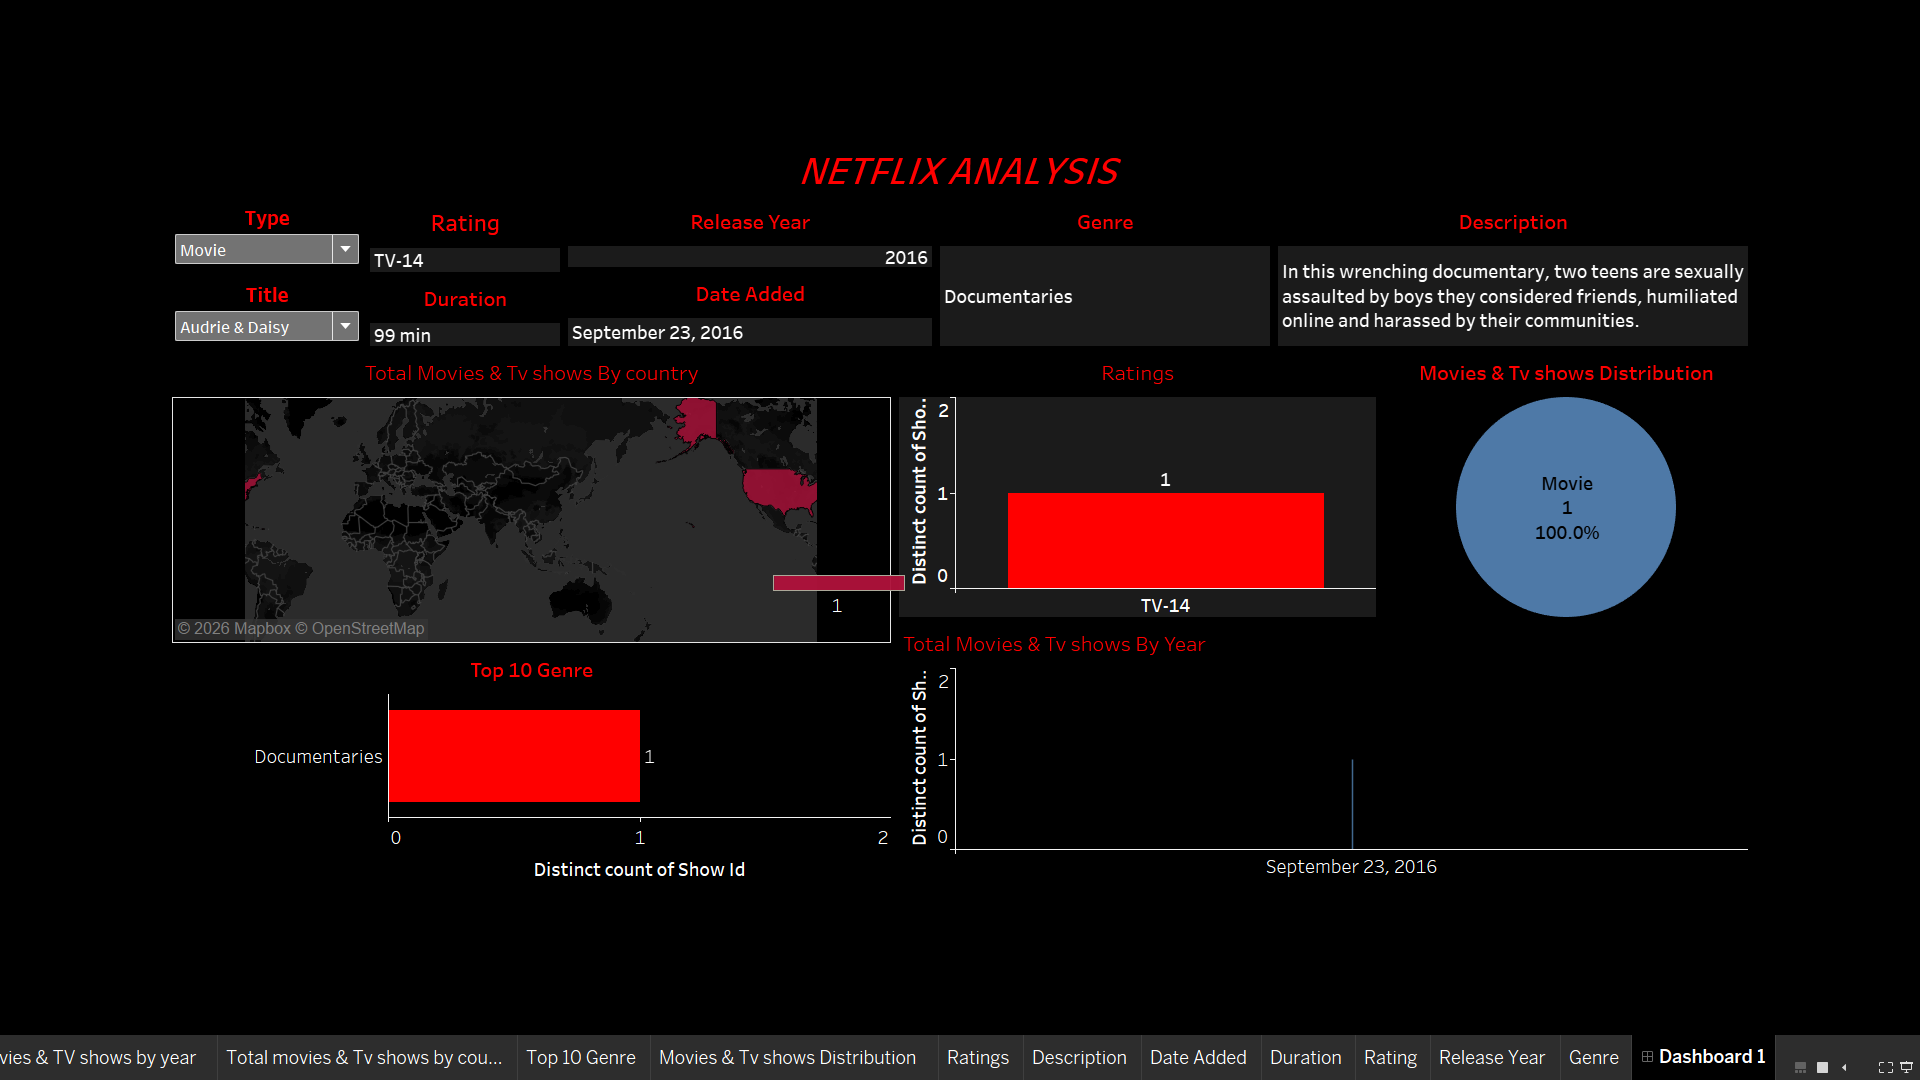

This screenshot's page, from the dashboard's own definition file:
{"tool":"tableau","page":{"name":"Dashboard 1","canvas":[1600,768],"ordinal":0},"visuals":[{"type":"title","box":[8,8,1584,58]},{"type":"filter","title":"Description","param":"[federated.0ux6tco0ba8bl21bjoe7y16jrri4].[none:type:nk]","box":[8,66,198,76.6]},{"type":"worksheet","title":"Rating","mark":"Automatic","box":[206,66,198,77]},{"type":"worksheet","title":"Release Year","mark":"Automatic","box":[404,66,371.5,72]},{"type":"worksheet","title":"Genre","mark":"Automatic","box":[775.5,66,338.1,151]},{"type":"worksheet","title":"Description","mark":"Automatic","box":[1113.7,66,478.3,151]},{"type":"worksheet","title":"Date Added","mark":"Automatic","box":[404,138,371.5,79]},{"type":"filter","title":"Description","param":"[federated.0ux6tco0ba8bl21bjoe7y16jrri4].[none:title:nk]","box":[8,142.6,198,74.4]},{"type":"worksheet","title":"Duration","mark":"Automatic","box":[206,143,198,74]},{"type":"worksheet","title":"Total movies & Tv shows by country","mark":"Multipolygon","box":[8,217,727,297.5]},{"type":"worksheet","title":"Ratings","mark":"Automatic","rows":["show_id"],"cols":["rating"],"box":[735,217,485.4,271.5]},{"type":"worksheet","title":"Movies & Tv shows Distribution","mark":"Circle","box":[1220.4,217,371.6,271.5]},{"type":"legend","title":"Total movies & Tv shows by country","param":"[federated.0ux6tco0ba8bl21bjoe7y16jrri4].[ctd:show_id:qk]","box":[609,438,140,47]},{"type":"worksheet","title":"Total movies & TV shows by year","mark":"Area","rows":["show_id"],"cols":["date_added"],"box":[735,488.5,857,271.5]},{"type":"worksheet","title":"Top 10 Genre","mark":"Automatic","rows":["listed_in"],"cols":["show_id"],"box":[8,514.5,727,245.5]}]}

Visuals, with their boxes on the page's 1600x768 design canvas (x1, y1, x2, y2). These are canvas units, not pixel positions in the 1920x1080 screenshot, which may show the page scaled, cropped or inside an application window:
title: [x1=8, y1=8, x2=1592, y2=66]
"Description" filter: [x1=8, y1=66, x2=206, y2=143]
"Rating" worksheet: [x1=206, y1=66, x2=404, y2=143]
"Release Year" worksheet: [x1=404, y1=66, x2=776, y2=138]
"Genre" worksheet: [x1=776, y1=66, x2=1114, y2=217]
"Description" worksheet: [x1=1114, y1=66, x2=1592, y2=217]
"Date Added" worksheet: [x1=404, y1=138, x2=776, y2=217]
"Description" filter: [x1=8, y1=143, x2=206, y2=217]
"Duration" worksheet: [x1=206, y1=143, x2=404, y2=217]
"Total movies & Tv shows by country" worksheet (Multipolygon marks): [x1=8, y1=217, x2=735, y2=514]
"Ratings" worksheet: [x1=735, y1=217, x2=1220, y2=488]
"Movies & Tv shows Distribution" worksheet (Circle marks): [x1=1220, y1=217, x2=1592, y2=488]
"Total movies & Tv shows by country" legend: [x1=609, y1=438, x2=749, y2=485]
"Total movies & TV shows by year" worksheet (Area marks): [x1=735, y1=488, x2=1592, y2=760]
"Top 10 Genre" worksheet: [x1=8, y1=514, x2=735, y2=760]
